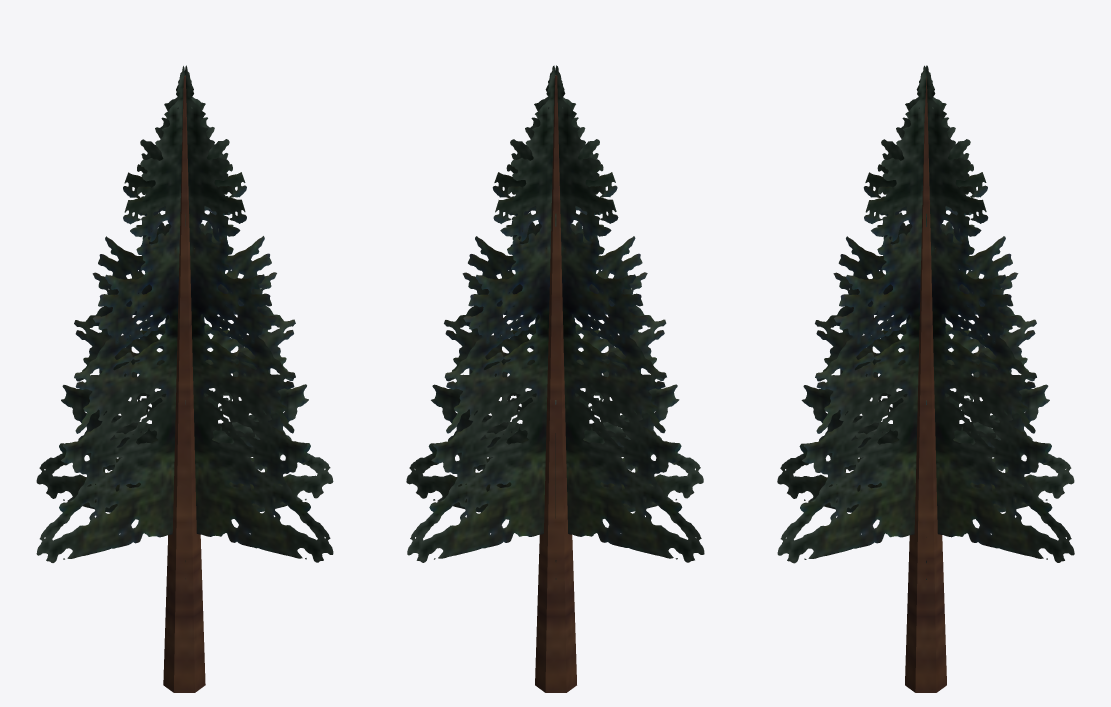
Rendered from PS1Tree.fbx.
3 views of the same model, side by side, from view 1: azimuth 30°, elevation 25°; view 2: azimuth 150°, elevation 25°; view 3: azimuth 270°, elevation 25° (orthographic).
Visible parts, largest first — view 1: Plane.004, Cylinder; view 2: Plane.004, Cylinder; view 3: Plane.004, Cylinder.
Boxes of the visible parts, left/top/right/bottom form: Plane.004: left=36, top=65, right=333, bottom=578; Cylinder: left=163, top=75, right=205, bottom=692; Plane.004: left=406, top=65, right=704, bottom=579; Cylinder: left=535, top=75, right=576, bottom=692; Plane.004: left=777, top=65, right=1074, bottom=579; Cylinder: left=905, top=76, right=946, bottom=692.
Bounding box in the file's own units: 997 × 1870 × 863.
